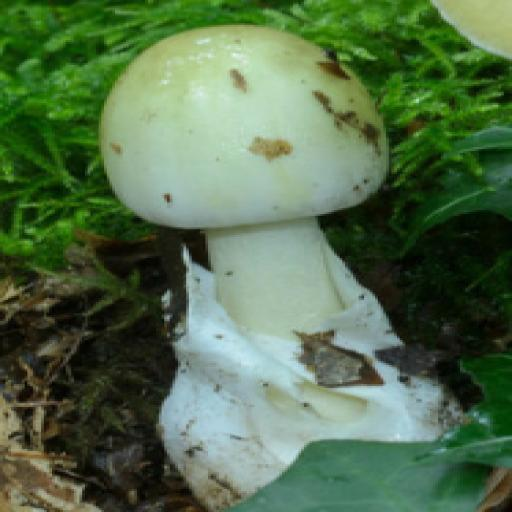mushroom: (75, 0, 471, 507)
